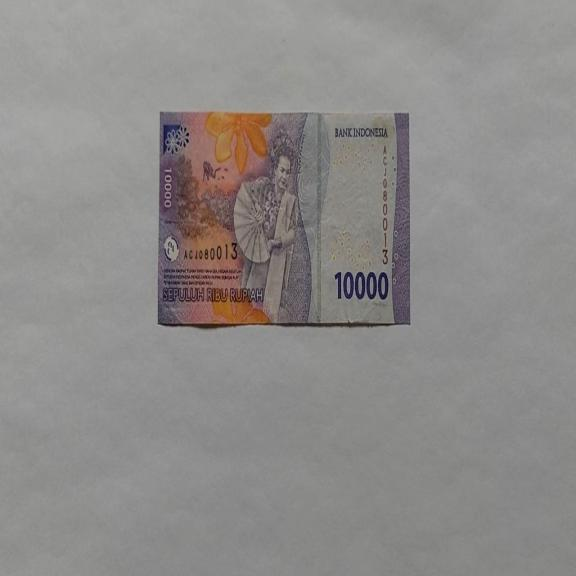Kertas: (157, 110, 410, 328), (333, 268, 390, 302)
